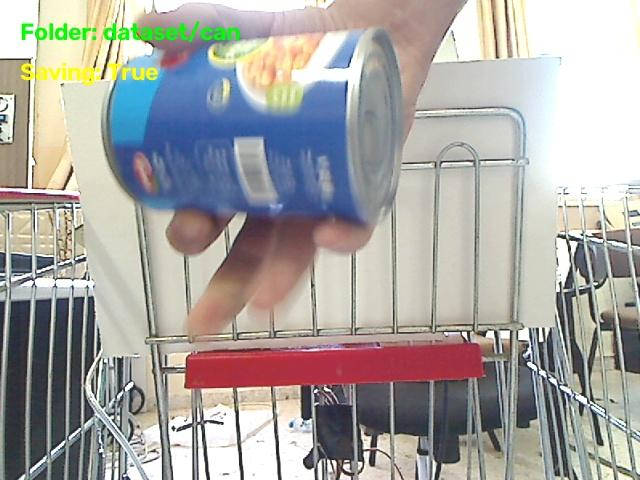can: (103, 29, 402, 222)
